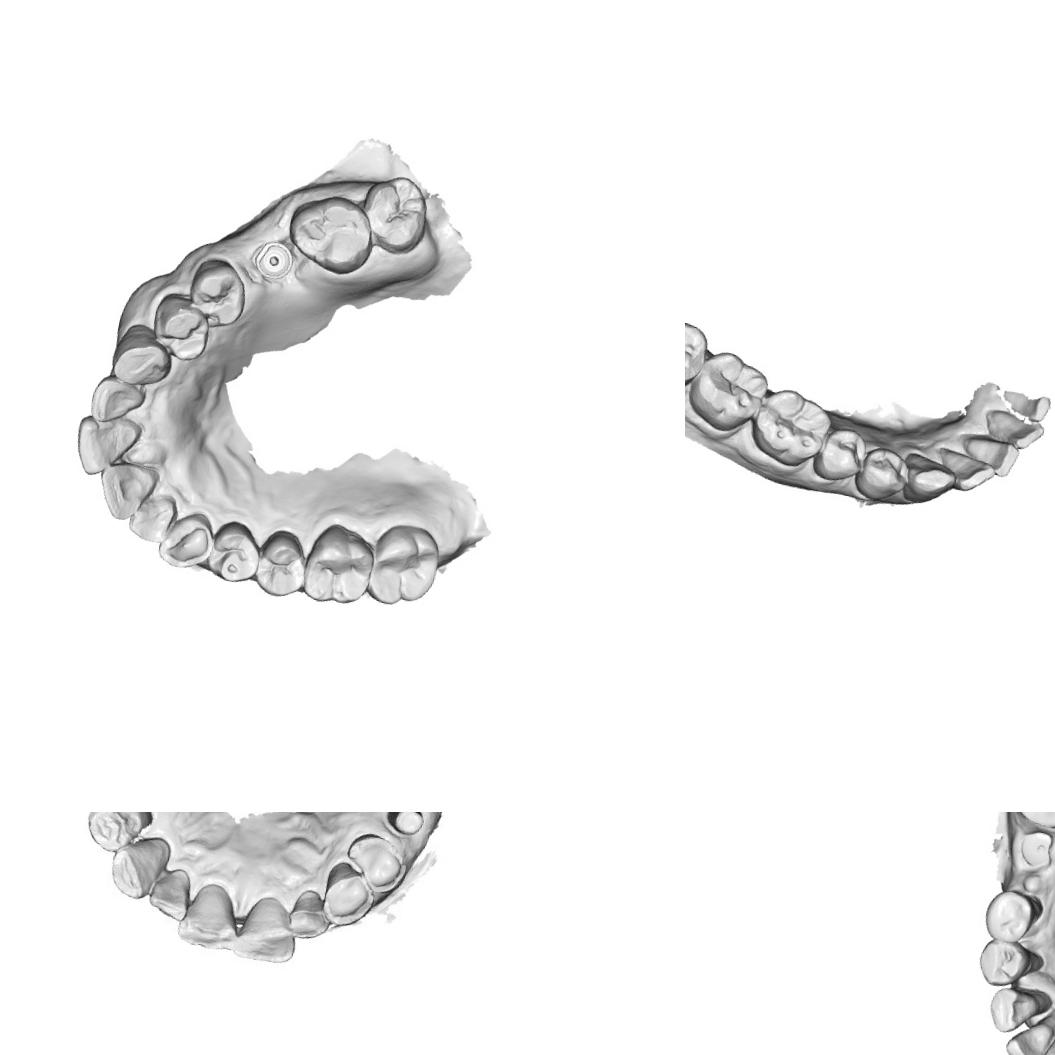abutment: (379, 812, 428, 841)
canine: (106, 318, 178, 392), (104, 828, 172, 906), (154, 504, 218, 574), (896, 447, 963, 512), (317, 860, 378, 930), (982, 982, 1044, 1040)
implant: (250, 238, 294, 283), (1014, 825, 1055, 872)
incisor: (66, 408, 144, 486), (232, 889, 306, 969), (174, 876, 246, 958), (88, 455, 164, 528), (83, 371, 150, 432), (930, 440, 998, 498), (977, 404, 1048, 454), (144, 862, 198, 926), (957, 430, 1023, 481), (123, 492, 178, 548), (284, 885, 334, 944), (999, 1013, 1055, 1055)
molar: (278, 185, 382, 282), (685, 343, 776, 439), (361, 517, 448, 615), (747, 380, 835, 475), (295, 515, 377, 611), (352, 167, 436, 260), (685, 306, 713, 398)
premolar: (181, 251, 253, 329), (144, 288, 216, 366), (248, 522, 314, 602), (338, 828, 412, 898), (201, 514, 268, 588), (809, 420, 872, 488), (851, 441, 915, 507), (978, 884, 1041, 948), (972, 934, 1032, 992), (79, 812, 153, 859)
